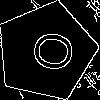O: (21, 26, 77, 75)
